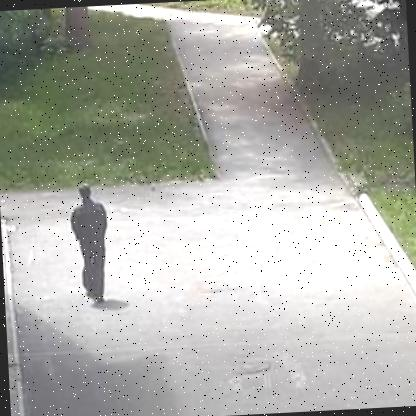person: (58, 180, 117, 314)
